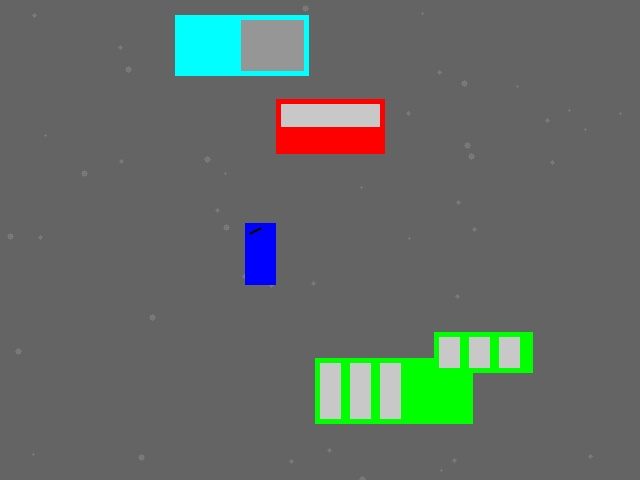bus: (315, 358, 472, 423), (434, 332, 532, 372)
car: (276, 99, 384, 153)
motorcycle: (245, 223, 275, 284)
truck: (175, 15, 308, 75)
